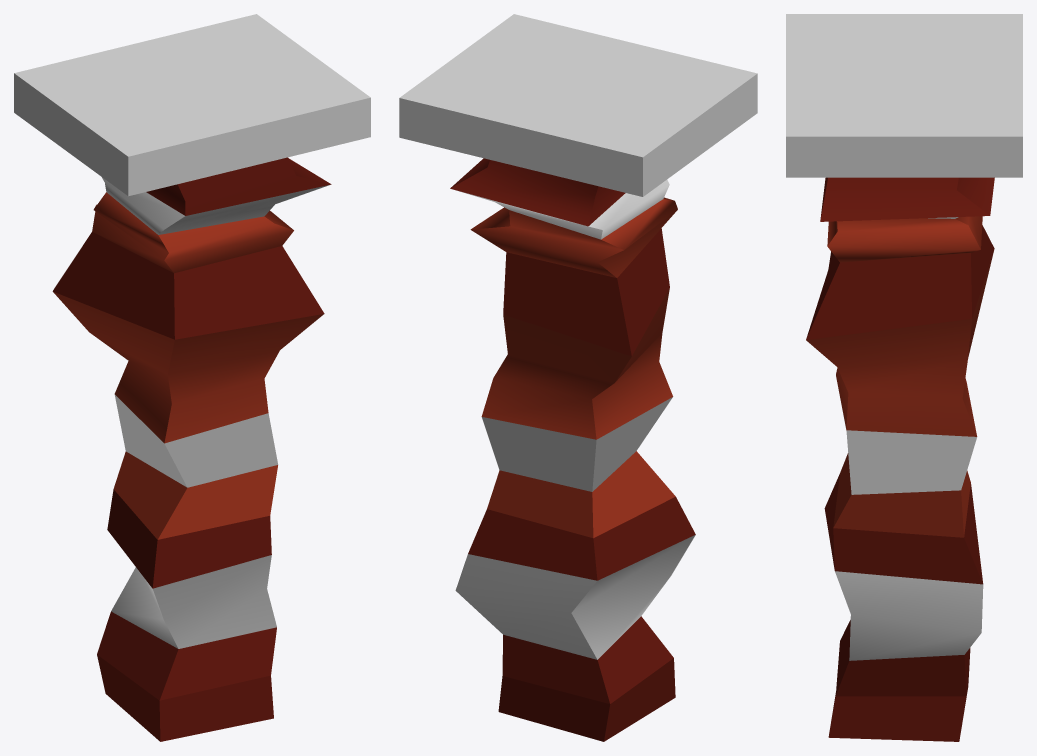
File: coll5.FBX
The picture shows the model from 3 angles, left to right: view 1: azimuth 30°, elevation 25°; view 2: azimuth 150°, elevation 25°; view 3: azimuth 270°, elevation 25°; orthographic projection. The views are drawn at different scales.
Visible parts, largest first — view 1: Collumn5; view 2: Collumn5; view 3: Collumn5.
Part boxes in pixels (x1,y1,x2,y2): Collumn5: (14, 14, 370, 741); Collumn5: (399, 14, 757, 741); Collumn5: (786, 14, 1022, 741).
Bounding box in the file's own units: 19.31 × 46.94 × 15.74.
